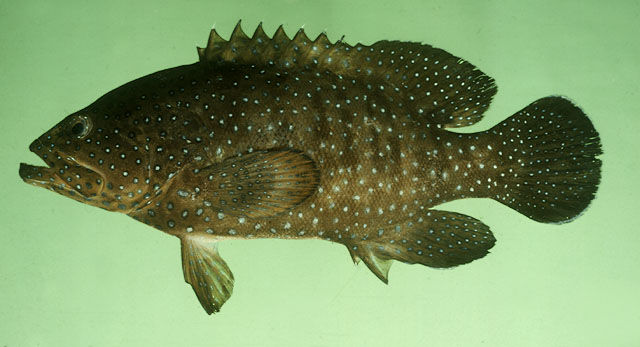fish: (19, 20, 604, 316)
